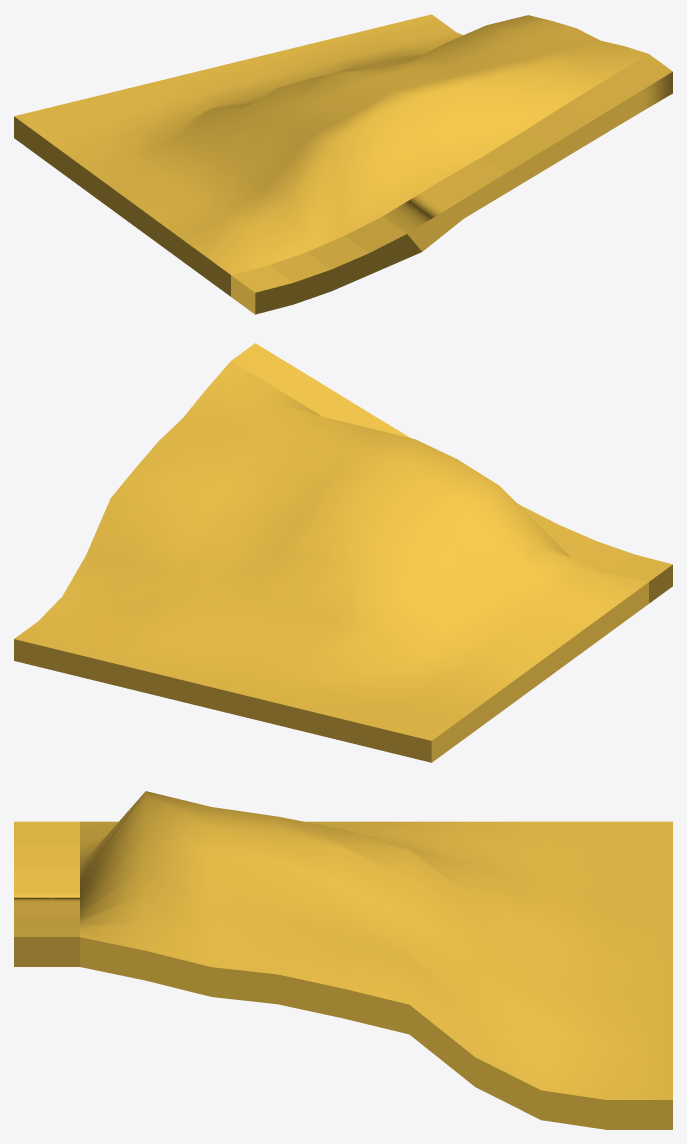
The model's file is Flach - Unten - Ecke a - x.fbx.
3 renders of one model, top to bottom at view 1: azimuth 30°, elevation 25°; view 2: azimuth 150°, elevation 25°; view 3: azimuth 270°, elevation 25°, orthographic. The views are drawn at different scales.
Parts seen in each view (by area): view 1: Flach - Unten - Ecke a - x; view 2: Flach - Unten - Ecke a - x; view 3: Flach - Unten - Ecke a - x.
Boxes of the visible parts, box(x1,y1,x2,y2) form: Flach - Unten - Ecke a - x: box(14, 14, 672, 314); Flach - Unten - Ecke a - x: box(14, 343, 672, 762); Flach - Unten - Ecke a - x: box(14, 791, 672, 1129).
Size of the model in its own units: 394 by 127 by 394.
